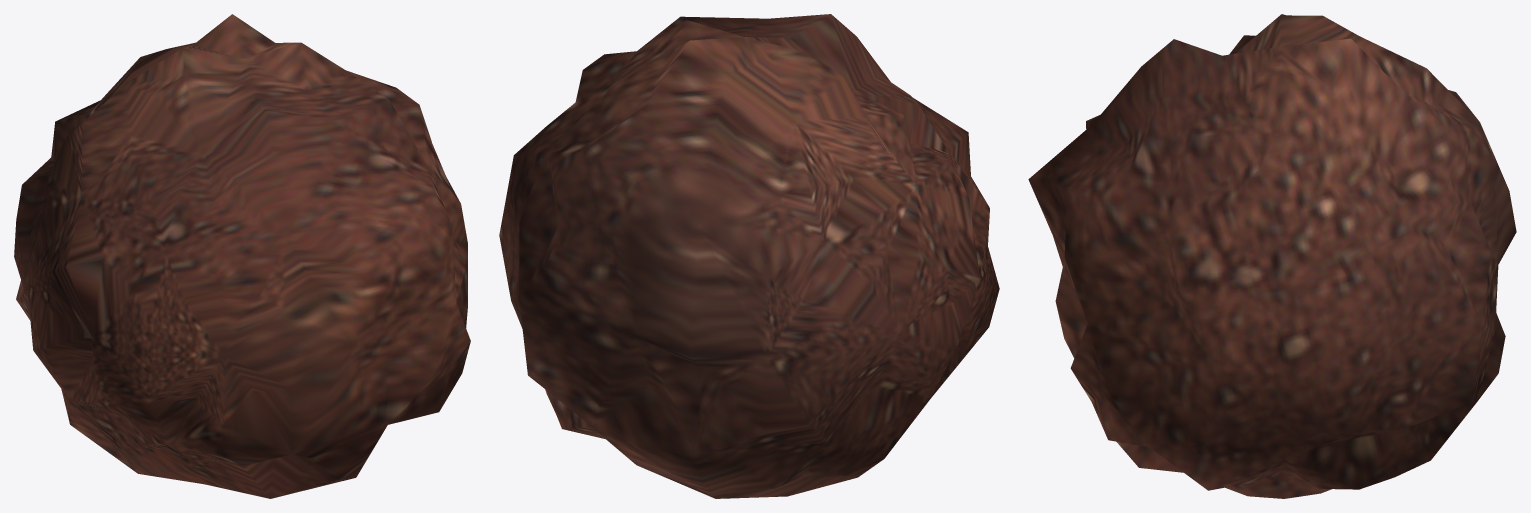
Rendered from Dirt.fbx.
3 renders of one model, left to right at view 1: azimuth 30°, elevation 25°; view 2: azimuth 150°, elevation 25°; view 3: azimuth 270°, elevation 25°, orthographic. The views are drawn at different scales.
Visible parts, largest first — view 1: Icosphere; view 2: Icosphere; view 3: Icosphere.
Boxes of the visible parts, x1,y1,x2,y2 form: Icosphere: [14, 14, 470, 498]; Icosphere: [499, 14, 999, 498]; Icosphere: [1028, 14, 1516, 498].
Size of the model in its own units: 0.7798 by 0.7926 by 0.7764.
1 material, 1 textured.
